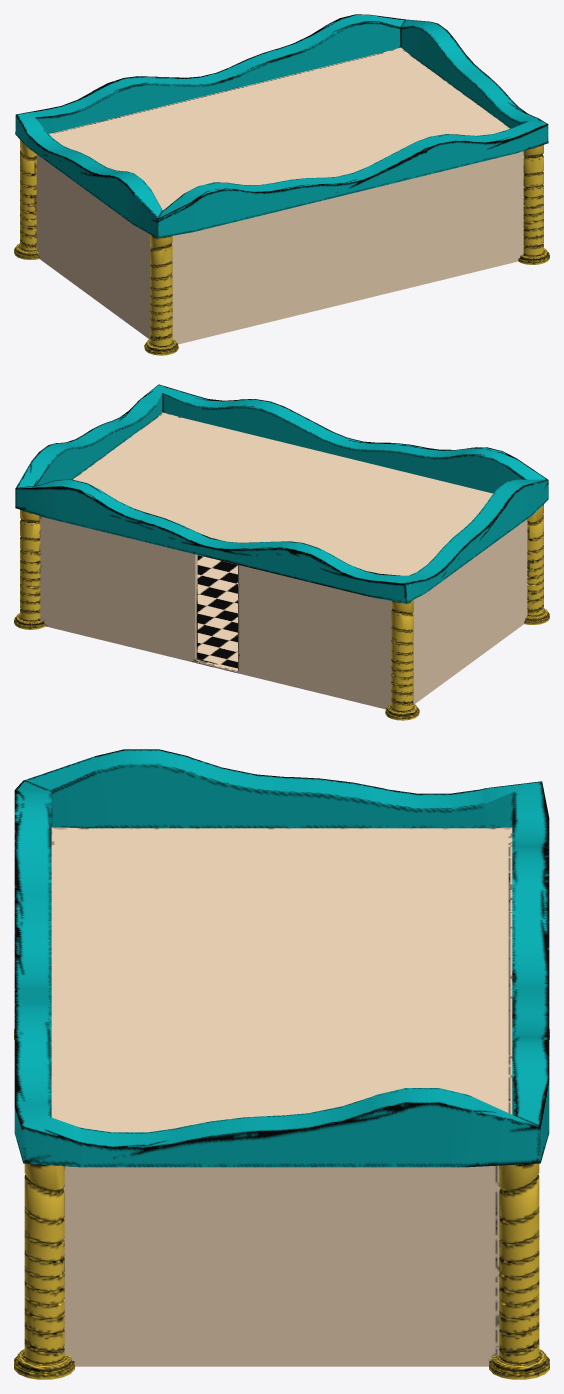
Rendered from regis_ready.fbx.
3 renders of one model, top to bottom at view 1: azimuth 30°, elevation 25°; view 2: azimuth 150°, elevation 25°; view 3: azimuth 270°, elevation 25°, orthographic. The views are drawn at different scales.
Parts seen in each view (by area): view 1: Cube.008, Cylinder.020, Cylinder.019, Cylinder.018; view 2: Cube.008, Cylinder.018, Cylinder.015, Cylinder.020; view 3: Cube.008, Cylinder.015, Cylinder.019.
Part boxes in pixels (x1,y1,x2,y2): Cube.008: [15, 14, 548, 344]; Cylinder.020: [144, 234, 178, 355]; Cylinder.019: [518, 145, 549, 264]; Cylinder.018: [14, 140, 39, 259]; Cube.008: [15, 384, 548, 709]; Cylinder.018: [385, 600, 419, 720]; Cylinder.015: [14, 509, 45, 629]; Cylinder.020: [524, 504, 549, 624]; Cube.008: [14, 749, 549, 1366]; Cylinder.015: [489, 1163, 549, 1379]; Cylinder.019: [14, 1163, 74, 1379].
Bounding box in the file's own units: 11.1 × 4.01 × 7.07.
